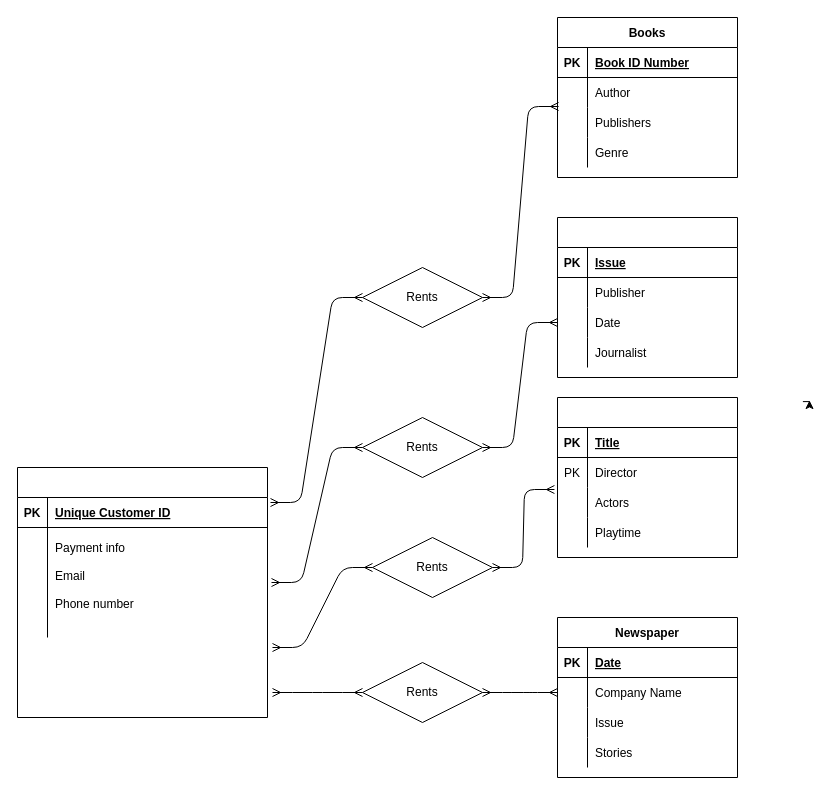
Some shapes in this 835 by 795 pixel diagram are drawn without their labels. The shapes that lost their labels are listed below. From the top down, each one's box as (x1, y1, x2, y2) in pixels, then its label:
(556, 216, 738, 378): Mag
(556, 396, 738, 558): Movies
(16, 466, 268, 718): Users
